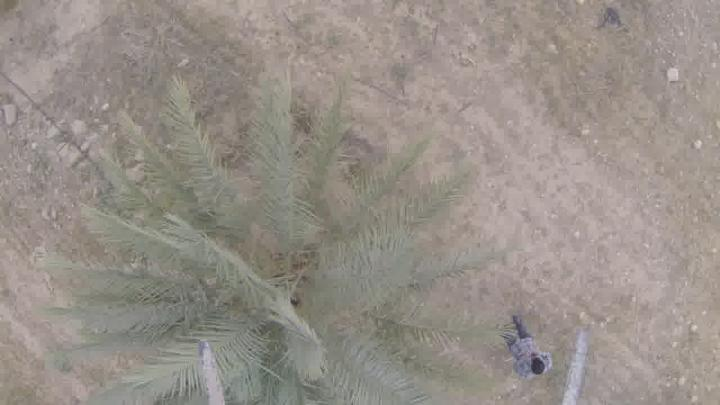Date-Palm-Crown: (148, 165, 410, 405)
